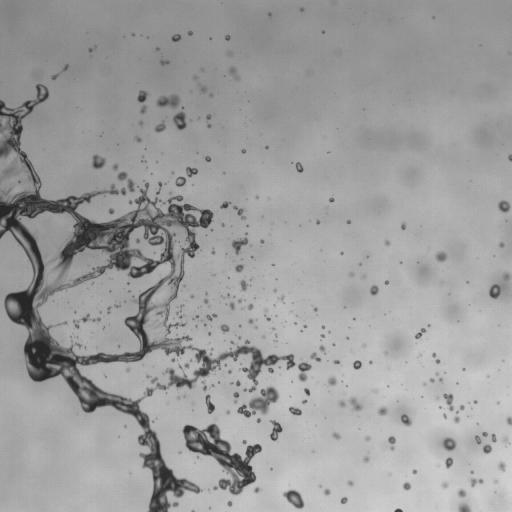droplet: (281, 488, 305, 509), (155, 94, 180, 109), (172, 111, 186, 130), (381, 435, 396, 451), (91, 154, 106, 169), (348, 396, 362, 411), (442, 437, 456, 451), (238, 276, 251, 291), (497, 200, 511, 213), (228, 66, 240, 81), (174, 176, 187, 189), (400, 413, 413, 426), (489, 284, 500, 299), (434, 250, 447, 262), (324, 375, 337, 387), (468, 477, 483, 487), (154, 120, 166, 132), (185, 166, 198, 177), (289, 406, 302, 417), (309, 351, 321, 362), (500, 435, 511, 447), (145, 95, 156, 106), (5, 98, 16, 109), (164, 105, 175, 116), (165, 120, 176, 131), (18, 133, 29, 144), (193, 158, 204, 169), (106, 172, 117, 183), (4, 175, 15, 186), (11, 184, 22, 195), (39, 189, 50, 200), (105, 194, 116, 205), (208, 201, 219, 212), (76, 203, 87, 214), (94, 213, 105, 224), (18, 280, 29, 291), (15, 281, 26, 292), (177, 287, 188, 298), (241, 289, 252, 300), (183, 305, 194, 316), (198, 305, 209, 316), (217, 305, 228, 316), (250, 307, 261, 318), (303, 311, 314, 322), (17, 324, 28, 335), (169, 327, 180, 338), (240, 328, 251, 339), (249, 337, 260, 348), (325, 348, 336, 359), (17, 353, 28, 364), (241, 353, 252, 364), (329, 365, 340, 376), (204, 372, 215, 383), (53, 374, 64, 385), (257, 377, 268, 388), (239, 393, 250, 404), (276, 395, 287, 406), (138, 401, 149, 412), (101, 403, 112, 414), (261, 411, 272, 422), (125, 414, 136, 425), (195, 419, 206, 430), (259, 436, 270, 447), (205, 454, 216, 465), (248, 456, 259, 467), (220, 488, 231, 499), (164, 490, 175, 501), (458, 503, 472, 511), (197, 83, 208, 93), (369, 284, 379, 295), (225, 301, 235, 312), (444, 457, 453, 469), (219, 324, 229, 334), (482, 444, 492, 454), (377, 406, 388, 415), (497, 461, 506, 472), (295, 161, 303, 173), (457, 488, 466, 498), (220, 201, 231, 209), (206, 313, 217, 321), (502, 272, 511, 281), (353, 360, 362, 369), (153, 51, 162, 60), (226, 57, 235, 66), (27, 91, 36, 100), (8, 149, 17, 158), (102, 162, 111, 171), (20, 169, 29, 178), (118, 179, 127, 188), (172, 186, 181, 195), (146, 190, 155, 199), (159, 191, 168, 200), (193, 225, 202, 234), (234, 231, 243, 240), (242, 258, 251, 267), (353, 266, 362, 275), (234, 271, 243, 280), (168, 301, 177, 310), (247, 309, 256, 318), (211, 318, 220, 327), (197, 326, 206, 335), (223, 331, 232, 340), (321, 337, 330, 346), (277, 358, 286, 367), (290, 365, 299, 374), (135, 425, 144, 434), (481, 435, 490, 444), (141, 445, 150, 454), (159, 448, 168, 457), (164, 459, 173, 468), (143, 467, 152, 476), (173, 470, 182, 479), (406, 474, 415, 483), (461, 481, 470, 490), (243, 483, 252, 492), (144, 487, 153, 496), (461, 495, 470, 504), (171, 34, 181, 42), (318, 344, 326, 354), (331, 431, 341, 439), (235, 264, 244, 272), (276, 294, 284, 303), (338, 399, 346, 408), (402, 482, 411, 490), (0, 157, 6, 168), (505, 239, 511, 250), (505, 424, 511, 435), (505, 460, 511, 471), (337, 505, 348, 511), (112, 162, 119, 171), (490, 433, 497, 442), (474, 435, 481, 444), (253, 486, 262, 493), (247, 318, 257, 324), (0, 131, 5, 142), (0, 306, 5, 317), (237, 298, 246, 304), (304, 387, 310, 396), (134, 135, 141, 142), (204, 155, 211, 162), (441, 481, 448, 488), (323, 488, 330, 495), (340, 496, 347, 503), (169, 28, 176, 35), (180, 31, 187, 38), (221, 66, 228, 73), (235, 68, 242, 75), (225, 73, 232, 80), (192, 85, 199, 92), (163, 90, 170, 97), (173, 106, 180, 113), (28, 111, 35, 118), (139, 113, 146, 120), (20, 118, 27, 125), (153, 118, 160, 125), (19, 131, 26, 138), (137, 141, 144, 148), (19, 144, 26, 151), (97, 150, 104, 157), (26, 153, 33, 160), (86, 157, 93, 164), (31, 161, 38, 168), (95, 167, 102, 174), (168, 177, 175, 184), (85, 186, 92, 193), (133, 190, 140, 197), (130, 202, 137, 209), (3, 230, 10, 237), (440, 245, 447, 252), (432, 246, 439, 253), (430, 257, 437, 264), (361, 258, 368, 265), (438, 260, 445, 267), (353, 272, 360, 279), (497, 279, 504, 286), (377, 282, 384, 289), (199, 312, 206, 319), (167, 316, 174, 323), (240, 318, 247, 325), (186, 320, 193, 327), (235, 327, 242, 334), (255, 328, 262, 335), (180, 339, 187, 346), (18, 340, 25, 347), (17, 343, 24, 350), (315, 350, 322, 357), (260, 351, 267, 358), (210, 352, 217, 359), (225, 356, 232, 363), (293, 357, 300, 364), (308, 358, 315, 365), (361, 360, 368, 367), (260, 363, 267, 370), (321, 375, 328, 382), (44, 377, 51, 384), (246, 379, 253, 386), (301, 380, 308, 387), (63, 383, 70, 390), (181, 384, 188, 391), (274, 384, 281, 391), (235, 385, 242, 392), (152, 388, 159, 395), (70, 393, 77, 400), (342, 394, 349, 401), (355, 396, 362, 403), (439, 398, 446, 405), (451, 400, 458, 407), (267, 401, 274, 408), (294, 401, 301, 408), (375, 401, 382, 408), (345, 402, 352, 409), (201, 404, 208, 411), (94, 405, 101, 412), (254, 409, 261, 416), (457, 410, 464, 417), (447, 411, 454, 418), (407, 412, 414, 419), (147, 413, 154, 420), (249, 414, 256, 421), (148, 422, 155, 429), (216, 422, 223, 429), (266, 423, 273, 430), (155, 432, 162, 439), (218, 432, 225, 439), (451, 433, 458, 440), (131, 437, 138, 444), (179, 437, 186, 444), (445, 450, 452, 457), (239, 452, 246, 459), (215, 463, 222, 470), (472, 472, 479, 479), (186, 474, 193, 481), (289, 483, 296, 490), (283, 484, 290, 491), (294, 485, 301, 492), (182, 489, 189, 496), (451, 490, 458, 497), (228, 493, 235, 500), (459, 496, 466, 503), (160, 60, 169, 65), (506, 416, 511, 425), (166, 506, 175, 511), (226, 506, 235, 511), (108, 208, 114, 215), (114, 302, 121, 308), (371, 388, 378, 394), (364, 435, 371, 441), (227, 500, 233, 507), (320, 334, 325, 342), (227, 51, 233, 57), (384, 240, 390, 246), (498, 241, 504, 247), (311, 305, 317, 311), (347, 480, 353, 486), (0, 295, 4, 304), (138, 120, 143, 127), (219, 222, 226, 227), (401, 222, 406, 229), (360, 274, 367, 279), (192, 315, 199, 320), (251, 324, 258, 329), (227, 367, 232, 374), (187, 30, 193, 35), (225, 35, 230, 41), (192, 75, 198, 80), (348, 272, 354, 277), (236, 380, 241, 386), (301, 399, 307, 404), (482, 432, 488, 437), (507, 277, 511, 284), (507, 444, 511, 451), (294, 507, 301, 511), (452, 507, 459, 511), (241, 148, 246, 153), (329, 197, 334, 202), (135, 238, 140, 243), (248, 276, 253, 281), (384, 280, 389, 285), (189, 294, 194, 299), (435, 359, 440, 364), (125, 367, 130, 372), (429, 378, 434, 383), (226, 409, 231, 414), (256, 418, 261, 423), (412, 469, 417, 474), (493, 478, 498, 483), (185, 26, 190, 31), (134, 31, 139, 36), (174, 40, 179, 45), (161, 55, 166, 60), (163, 63, 168, 68), (50, 70, 55, 75), (34, 79, 39, 84), (200, 80, 205, 85), (142, 86, 147, 91), (32, 88, 37, 93), (204, 90, 209, 95), (133, 92, 138, 97), (47, 93, 52, 98), (21, 97, 26, 102), (43, 98, 48, 103), (142, 99, 147, 104), (38, 101, 43, 106), (138, 101, 143, 106), (4, 102, 9, 107), (32, 105, 37, 110), (182, 108, 187, 113), (201, 115, 206, 120), (183, 117, 188, 122), (207, 118, 212, 123), (179, 128, 184, 133), (158, 130, 163, 135), (138, 133, 143, 138), (140, 139, 145, 144), (133, 140, 138, 145), (140, 149, 145, 154), (504, 158, 509, 163), (147, 166, 152, 171), (117, 167, 122, 172), (182, 172, 187, 177), (126, 173, 131, 178), (191, 173, 196, 178), (140, 184, 145, 189), (105, 185, 110, 190), (97, 186, 102, 191), (171, 191, 176, 196), (75, 192, 80, 197), (105, 192, 110, 197), (117, 192, 122, 197), (62, 193, 67, 198), (111, 193, 116, 198), (156, 193, 161, 198), (89, 196, 94, 201), (149, 196, 154, 201), (224, 196, 229, 201), (496, 197, 501, 202), (324, 199, 329, 204), (82, 200, 87, 205), (188, 200, 193, 205), (108, 203, 113, 208), (227, 203, 232, 208), (202, 204, 207, 209), (208, 206, 213, 211), (103, 207, 108, 212), (497, 209, 502, 214), (241, 210, 246, 215), (235, 214, 240, 219), (242, 219, 247, 224), (207, 223, 212, 228), (243, 226, 248, 231), (246, 234, 251, 239), (387, 236, 392, 241), (194, 238, 199, 243), (247, 238, 252, 243), (227, 239, 232, 244), (379, 239, 384, 244), (503, 241, 508, 246), (239, 244, 244, 249), (387, 244, 392, 249), (497, 246, 502, 251), (230, 247, 235, 252), (193, 249, 198, 254), (183, 253, 188, 258), (236, 259, 241, 264), (232, 261, 237, 266), (182, 265, 187, 270), (241, 267, 246, 272), (244, 278, 249, 283), (178, 280, 183, 285), (236, 284, 241, 289), (245, 285, 250, 290), (485, 285, 490, 290), (484, 289, 489, 294), (499, 289, 504, 294), (192, 290, 197, 295), (365, 290, 370, 295), (376, 290, 381, 295), (275, 291, 280, 296), (371, 294, 376, 299), (496, 294, 501, 299), (488, 296, 493, 301), (207, 298, 212, 303), (225, 298, 230, 303), (232, 298, 237, 303), (248, 298, 253, 303), (244, 300, 249, 305), (276, 300, 281, 305), (233, 301, 238, 306), (201, 302, 206, 307), (252, 302, 257, 307), (225, 305, 230, 310), (4, 315, 9, 320), (270, 315, 275, 320), (292, 316, 297, 321), (174, 317, 179, 322), (180, 317, 185, 322), (204, 318, 209, 323), (252, 320, 257, 325), (197, 321, 202, 326), (226, 321, 231, 326), (228, 325, 233, 330), (169, 326, 174, 331), (321, 328, 326, 333), (177, 332, 182, 337), (421, 332, 426, 337), (166, 333, 171, 338), (315, 341, 320, 346), (198, 344, 203, 349), (231, 345, 236, 350), (307, 349, 312, 354), (284, 350, 289, 355), (275, 351, 280, 356), (334, 355, 339, 360), (328, 359, 333, 364), (245, 363, 250, 368), (270, 363, 275, 368), (223, 366, 228, 371), (354, 368, 359, 373), (438, 372, 443, 377), (57, 373, 62, 378), (254, 375, 259, 380), (433, 375, 438, 380), (27, 377, 32, 382), (294, 377, 299, 382), (335, 377, 340, 382), (424, 377, 429, 382), (426, 380, 431, 385), (329, 384, 334, 389), (204, 389, 209, 394), (445, 389, 450, 394), (201, 391, 206, 396), (302, 393, 307, 398), (145, 395, 150, 400), (210, 399, 215, 404), (334, 399, 339, 404), (236, 402, 241, 407), (443, 403, 448, 408), (463, 403, 468, 408), (335, 404, 340, 409), (212, 408, 217, 413), (444, 408, 449, 413), (79, 409, 84, 414), (353, 409, 358, 414), (398, 410, 403, 415), (239, 413, 244, 418), (295, 414, 300, 419), (380, 414, 385, 419), (458, 418, 463, 423), (502, 419, 507, 424), (187, 420, 192, 425), (190, 421, 195, 426), (400, 422, 405, 427), (454, 422, 459, 427), (179, 424, 184, 429), (267, 428, 272, 433), (335, 428, 340, 433), (277, 431, 282, 436), (362, 431, 367, 436), (179, 432, 184, 437), (385, 432, 390, 437), (448, 433, 453, 438), (495, 434, 500, 439), (394, 435, 399, 440), (331, 437, 336, 442), (367, 439, 372, 444), (249, 441, 254, 446), (393, 441, 398, 446), (489, 441, 494, 446), (259, 442, 264, 447), (454, 444, 459, 449), (385, 447, 390, 452), (192, 451, 197, 456), (361, 451, 366, 456), (198, 452, 203, 457), (483, 452, 488, 457), (358, 455, 363, 460), (368, 456, 373, 461), (139, 457, 144, 462), (247, 460, 252, 465), (364, 461, 369, 466), (440, 461, 445, 466), (449, 464, 454, 469), (504, 464, 509, 469), (496, 468, 501, 473), (351, 477, 356, 482), (342, 478, 347, 483), (213, 480, 218, 485), (409, 481, 414, 486), (398, 482, 403, 487), (474, 482, 479, 487), (321, 484, 326, 489), (216, 486, 221, 491), (319, 487, 324, 492), (443, 487, 448, 492), (401, 488, 406, 493), (329, 489, 334, 494), (257, 490, 262, 495), (320, 492, 325, 497), (327, 493, 332, 498), (300, 494, 305, 499), (282, 496, 287, 501), (342, 502, 347, 507), (395, 503, 400, 508), (398, 504, 403, 509), (316, 219, 320, 225), (365, 252, 369, 258), (443, 413, 447, 419), (508, 154, 511, 161), (299, 7, 304, 11), (208, 93, 213, 97), (255, 194, 259, 199), (346, 219, 351, 223), (203, 323, 207, 328), (207, 331, 211, 336), (261, 334, 265, 339), (432, 352, 436, 357), (176, 395, 181, 399), (435, 463, 440, 467), (318, 483, 322, 488), (260, 239, 264, 243), (250, 255, 254, 259), (358, 262, 362, 266), (273, 288, 277, 292), (321, 325, 325, 329), (271, 326, 275, 330), (362, 343, 366, 347), (368, 360, 372, 364), (422, 382, 426, 386), (436, 396, 440, 400), (242, 440, 246, 444), (178, 450, 182, 454), (470, 470, 474, 474), (268, 12, 271, 17), (211, 273, 216, 276), (102, 325, 105, 330), (273, 339, 278, 342), (207, 488, 210, 493), (508, 149, 511, 154), (508, 200, 511, 205), (508, 207, 511, 212), (508, 271, 511, 276), (508, 412, 511, 417), (508, 437, 511, 442), (321, 30, 325, 33), (131, 33, 135, 36), (155, 47, 159, 50), (200, 68, 204, 71), (265, 145, 268, 149), (171, 171, 174, 175), (340, 251, 343, 255), (271, 263, 275, 266), (227, 275, 230, 279), (91, 281, 94, 285), (99, 310, 103, 313), (296, 314, 300, 317), (352, 317, 356, 320), (293, 322, 297, 325), (327, 330, 331, 333), (274, 333, 277, 337), (345, 336, 349, 339), (207, 341, 210, 345), (332, 342, 335, 346), (384, 351, 387, 355), (103, 373, 106, 377), (486, 374, 489, 378), (229, 382, 233, 385), (473, 400, 477, 403), (388, 472, 391, 476), (190, 509, 195, 511), (0, 225, 2, 230), (432, 16, 435, 19), (146, 36, 149, 39), (181, 106, 184, 109), (155, 160, 158, 163), (222, 171, 225, 174), (150, 172, 153, 175), (246, 224, 249, 227), (210, 228, 213, 231), (153, 251, 156, 254), (399, 261, 402, 264), (466, 280, 469, 283), (274, 314, 277, 317), (238, 324, 241, 327), (427, 324, 430, 327), (117, 344, 120, 347), (239, 362, 242, 365), (278, 366, 281, 369), (462, 368, 465, 371), (456, 382, 459, 385), (345, 384, 348, 387), (420, 395, 423, 398), (467, 401, 470, 404), (496, 401, 499, 404), (476, 422, 479, 425), (312, 450, 315, 453), (270, 467, 273, 470), (208, 506, 211, 509), (299, 4, 302, 7), (296, 7, 299, 10), (301, 10, 304, 13), (271, 12, 274, 15), (265, 14, 268, 17), (190, 28, 193, 31), (177, 31, 180, 34), (225, 31, 228, 34), (319, 32, 322, 35), (323, 32, 326, 35), (191, 33, 194, 36), (130, 35, 133, 38), (205, 36, 208, 39), (211, 36, 214, 39), (168, 37, 171, 40), (228, 38, 231, 41), (208, 39, 211, 42), (224, 39, 227, 42), (157, 44, 160, 47), (90, 45, 93, 48), (152, 47, 155, 50), (85, 48, 88, 51), (156, 50, 159, 53), (89, 51, 92, 54), (158, 63, 161, 66), (61, 64, 64, 67), (66, 67, 69, 70), (48, 75, 51, 78), (55, 76, 58, 79), (40, 81, 43, 84), (209, 111, 212, 114), (141, 123, 144, 126), (137, 124, 140, 127), (210, 124, 213, 127), (207, 127, 210, 130), (98, 131, 101, 134), (101, 133, 104, 136), (262, 143, 265, 146), (268, 145, 271, 148), (146, 146, 149, 149), (239, 146, 242, 149), (265, 148, 268, 151), (325, 148, 328, 151), (245, 149, 248, 152), (242, 152, 245, 155), (327, 152, 330, 155), (203, 153, 206, 156), (210, 158, 213, 161), (203, 159, 206, 162), (287, 160, 290, 163), (141, 161, 144, 164), (144, 162, 147, 165), (292, 162, 295, 165), (189, 165, 192, 168), (302, 166, 305, 169), (293, 167, 296, 170), (196, 171, 199, 174), (299, 171, 302, 174), (39, 177, 42, 180), (156, 184, 159, 187), (179, 185, 182, 188), (5, 187, 8, 190), (328, 194, 331, 197), (332, 195, 335, 198), (258, 196, 261, 199), (333, 198, 336, 201), (219, 201, 222, 204), (330, 201, 333, 204), (221, 207, 224, 210), (346, 216, 349, 219), (313, 219, 316, 222), (343, 220, 346, 223), (350, 220, 353, 223), (223, 221, 226, 224), (248, 223, 251, 226), (317, 223, 320, 226), (347, 223, 350, 226), (398, 223, 401, 226), (220, 226, 223, 229), (398, 226, 401, 229), (404, 227, 407, 230), (261, 236, 264, 239), (263, 240, 266, 243), (15, 241, 18, 244), (496, 241, 499, 244), (259, 242, 262, 245), (18, 244, 21, 247), (209, 248, 212, 251), (213, 248, 216, 251), (337, 249, 340, 252), (343, 251, 346, 254), (250, 252, 253, 255), (209, 253, 212, 256), (337, 253, 340, 256), (368, 255, 371, 258), (25, 256, 28, 259), (248, 257, 251, 260), (359, 259, 362, 262), (27, 260, 30, 263), (271, 260, 274, 263), (396, 260, 399, 263), (355, 263, 358, 266), (399, 263, 402, 266), (360, 264, 363, 267), (270, 265, 273, 268), (232, 267, 235, 270), (211, 270, 214, 273), (224, 276, 227, 279), (386, 277, 389, 280), (465, 277, 468, 280), (388, 280, 391, 283), (462, 280, 465, 283), (386, 283, 389, 286), (465, 283, 468, 286), (270, 286, 273, 289), (176, 290, 179, 293), (207, 291, 210, 294), (283, 292, 286, 295), (223, 293, 226, 296), (229, 293, 232, 296), (204, 295, 207, 298), (188, 297, 191, 300), (219, 297, 222, 300), (255, 297, 258, 300), (282, 298, 285, 301), (272, 300, 275, 303), (313, 304, 316, 307), (181, 306, 184, 309), (310, 306, 313, 309), (244, 307, 247, 310), (251, 307, 254, 310), (316, 308, 319, 311), (195, 311, 198, 314), (214, 311, 217, 314), (313, 311, 316, 314), (297, 313, 300, 316), (192, 314, 195, 317), (352, 314, 355, 317), (197, 316, 200, 319), (349, 316, 352, 319), (355, 317, 358, 320), (245, 318, 248, 321), (351, 319, 354, 322), (427, 320, 430, 323), (302, 321, 305, 324), (283, 322, 286, 325), (235, 323, 238, 326), (291, 323, 294, 326), (240, 324, 243, 327), (318, 324, 321, 327), (274, 325, 277, 328), (300, 326, 303, 329), (207, 328, 210, 331), (296, 328, 299, 331), (219, 329, 222, 332), (330, 329, 333, 332), (272, 330, 275, 333), (210, 331, 213, 334), (224, 331, 227, 334), (298, 331, 301, 334), (204, 332, 207, 335), (264, 332, 267, 335), (276, 333, 279, 336), (346, 333, 349, 336), (318, 335, 321, 338), (411, 335, 414, 338), (272, 336, 275, 339), (247, 337, 250, 340), (321, 337, 324, 340), (344, 338, 347, 341), (415, 338, 418, 341), (273, 341, 276, 344), (334, 341, 337, 344), (324, 349, 327, 352), (415, 352, 418, 355), (429, 352, 432, 355), (418, 356, 421, 359), (434, 356, 437, 359), (357, 357, 360, 360), (351, 359, 354, 362), (439, 359, 442, 362), (339, 360, 342, 363), (371, 361, 374, 364), (335, 363, 338, 366), (350, 363, 353, 366), (462, 364, 465, 367), (465, 367, 468, 370), (239, 369, 242, 372), (461, 370, 464, 373), (219, 379, 222, 382), (287, 379, 290, 382), (233, 380, 236, 383), (458, 380, 461, 383), (343, 381, 346, 384), (386, 381, 389, 384), (452, 381, 455, 384), (214, 382, 217, 385), (347, 383, 350, 386), (342, 384, 345, 387), (383, 384, 386, 387), (165, 388, 168, 391), (419, 392, 422, 395), (422, 393, 425, 396), (179, 395, 182, 398), (473, 396, 476, 399), (420, 397, 423, 400), (496, 397, 499, 400), (202, 398, 205, 401), (470, 400, 473, 403), (499, 401, 502, 404), (304, 402, 307, 405), (435, 404, 438, 407), (285, 407, 288, 410), (227, 413, 230, 416), (440, 414, 443, 417), (271, 417, 274, 420), (477, 419, 480, 422), (258, 421, 261, 424), (279, 423, 282, 426), (473, 423, 476, 426), (120, 425, 123, 428), (482, 428, 485, 431), (119, 434, 122, 437), (267, 435, 270, 438), (242, 436, 245, 439), (270, 439, 273, 442), (473, 439, 476, 442), (270, 464, 273, 467), (413, 466, 416, 469), (266, 467, 269, 470), (272, 467, 275, 470), (467, 468, 470, 471), (409, 469, 412, 472), (416, 470, 419, 473), (413, 473, 416, 476), (482, 478, 485, 481), (209, 486, 212, 489), (198, 491, 201, 494), (337, 498, 340, 501), (224, 501, 227, 504), (205, 505, 208, 508), (190, 506, 193, 509), (210, 506, 213, 509), (393, 506, 396, 509), (193, 507, 196, 510), (195, 324, 197, 328), (183, 394, 185, 398), (124, 424, 126, 428), (198, 116, 200, 119), (189, 119, 192, 121), (99, 135, 102, 137), (327, 151, 330, 153), (169, 192, 172, 194), (261, 215, 263, 218), (493, 254, 495, 257), (240, 258, 243, 260), (127, 281, 129, 284), (109, 289, 111, 292), (128, 290, 131, 292), (253, 296, 255, 299), (123, 300, 126, 302), (273, 304, 275, 307), (74, 310, 76, 313), (201, 319, 203, 322), (284, 320, 287, 322), (348, 326, 351, 328), (443, 371, 446, 373), (217, 381, 220, 383), (386, 385, 389, 387), (155, 416, 157, 419), (117, 435, 119, 438), (129, 471, 131, 474), (509, 443, 511, 446), (208, 509, 211, 511), (209, 37, 211, 39), (196, 152, 198, 154), (299, 224, 301, 226), (205, 234, 207, 236), (225, 253, 227, 255), (417, 261, 419, 263), (275, 278, 277, 280), (344, 306, 346, 308), (457, 320, 459, 322), (405, 361, 407, 363), (502, 360, 504, 362), (311, 376, 313, 378), (291, 381, 293, 383), (165, 392, 167, 394), (289, 395, 291, 397), (396, 400, 398, 402), (494, 491, 496, 493), (0, 170, 1, 173), (0, 191, 1, 194), (505, 220, 507, 221), (384, 313, 385, 315), (327, 359, 328, 361), (192, 410, 194, 411), (246, 198, 247, 199), (292, 302, 293, 303), (173, 318, 174, 319)
ligament: (237, 385, 279, 418), (73, 313, 101, 329), (269, 419, 282, 442), (137, 90, 148, 114), (51, 64, 68, 79), (453, 404, 465, 423), (232, 205, 246, 220), (443, 393, 454, 411), (205, 394, 214, 415), (263, 307, 272, 322), (414, 328, 426, 339), (203, 291, 210, 308), (239, 303, 253, 310), (220, 293, 235, 299), (435, 372, 443, 383), (233, 391, 239, 403), (363, 451, 369, 463), (206, 114, 211, 128), (333, 359, 342, 366), (88, 45, 96, 52), (300, 324, 307, 332), (234, 334, 241, 340), (107, 306, 111, 315), (417, 353, 423, 359), (211, 247, 215, 255), (438, 405, 444, 409), (226, 286, 231, 289), (197, 305, 201, 308), (144, 145, 146, 150), (341, 380, 343, 385), (326, 206, 328, 210), (108, 277, 112, 279), (342, 374, 344, 377), (467, 414, 468, 417), (358, 428, 360, 429)
